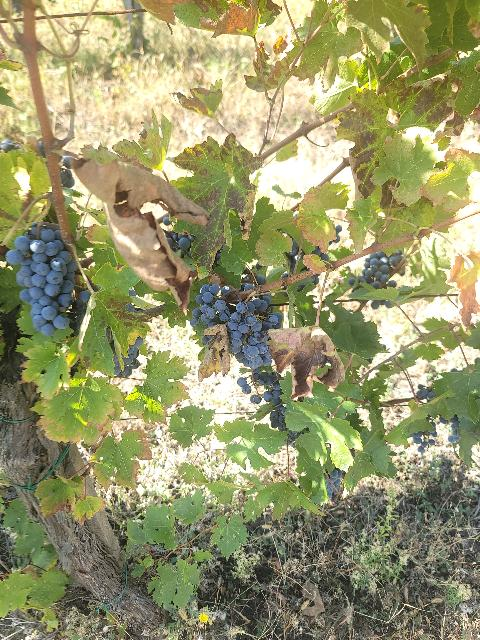grapes: (6, 235, 78, 336), (228, 295, 279, 370), (358, 250, 404, 290), (190, 284, 230, 328)
